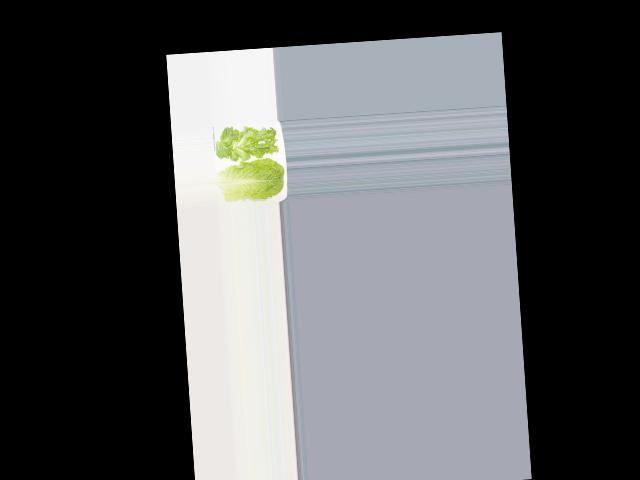lettuce: (216, 119, 279, 160)
